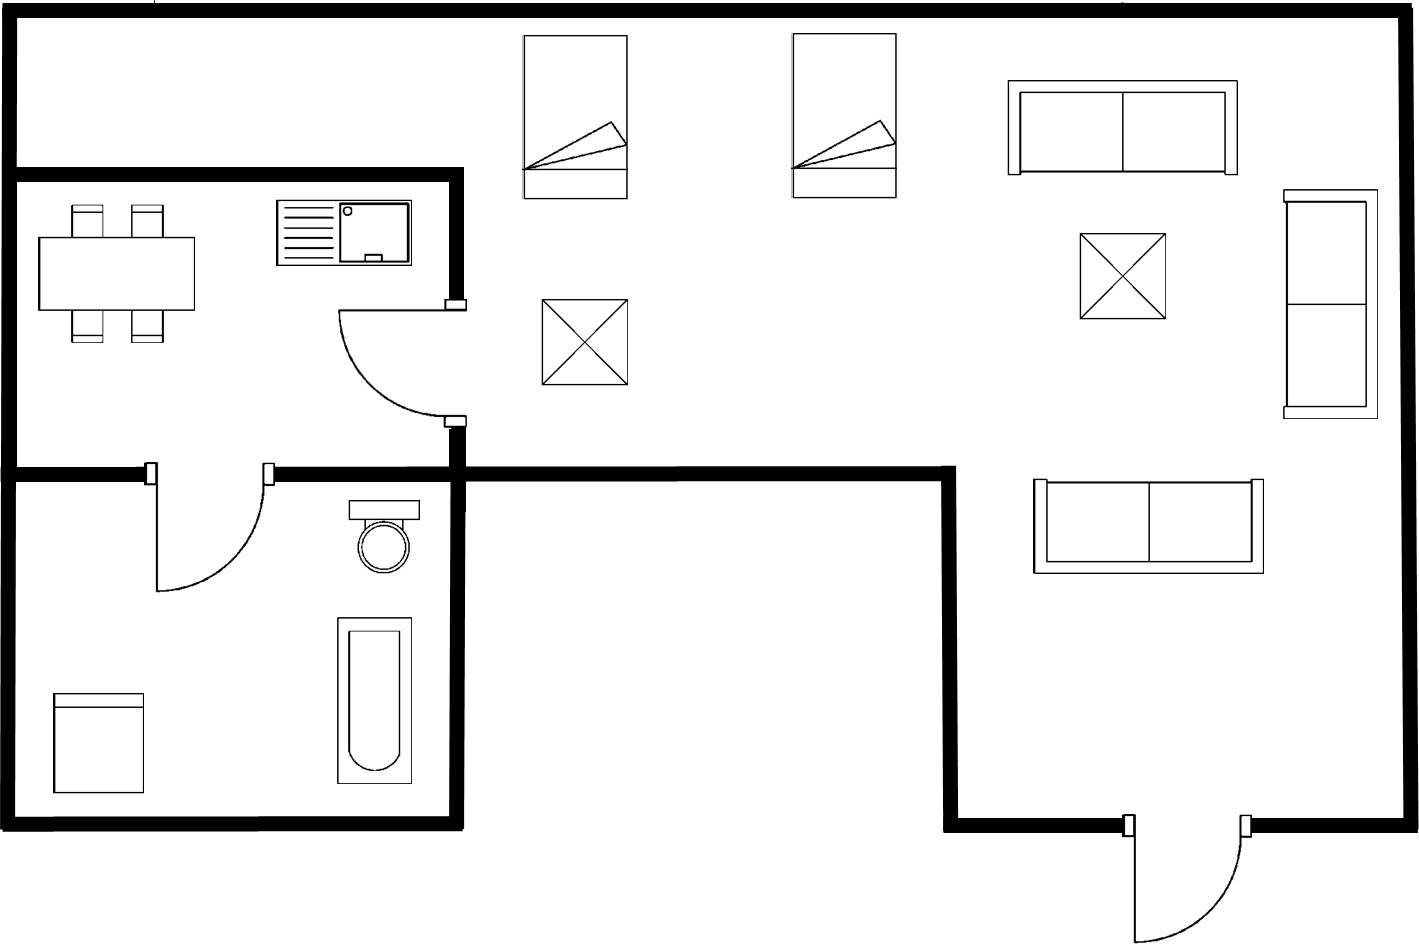bed: (514, 28, 634, 203), (783, 27, 901, 203)
dining_table: (33, 198, 201, 350)
sink: (267, 193, 418, 272)
sofa: (999, 73, 1243, 181), (1276, 182, 1382, 425), (1026, 472, 1267, 578)
toilet: (342, 494, 426, 578)
tub: (330, 611, 416, 787)
